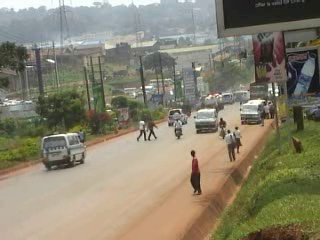Car: (165, 106, 189, 127)
Motorcycle: (169, 117, 183, 140), (216, 117, 229, 139)
